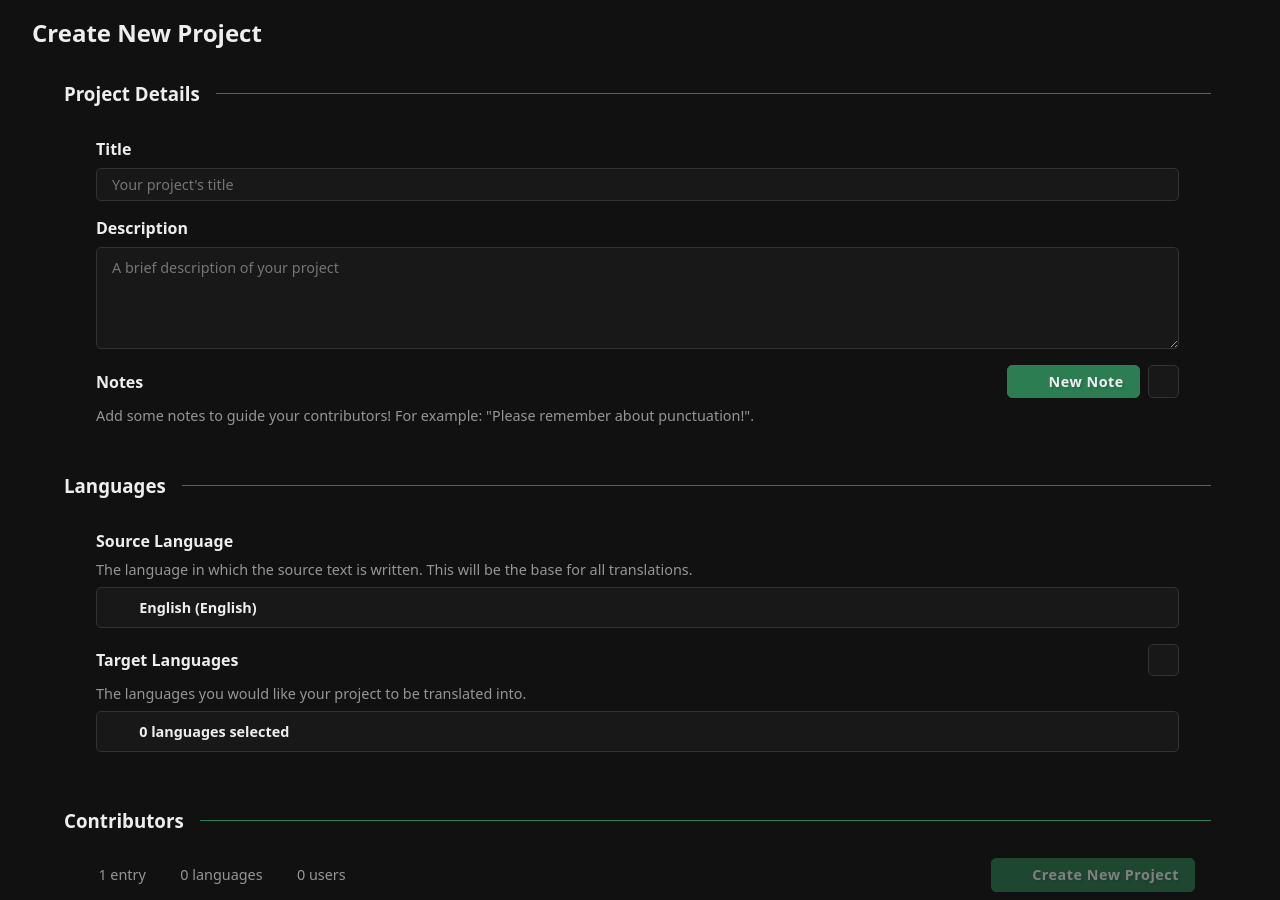
Scenario: ProjectCreate › opens and closes notes tab
Click the button with class "toggle-notes": (1163, 382) [1148, 365, 1179, 398]
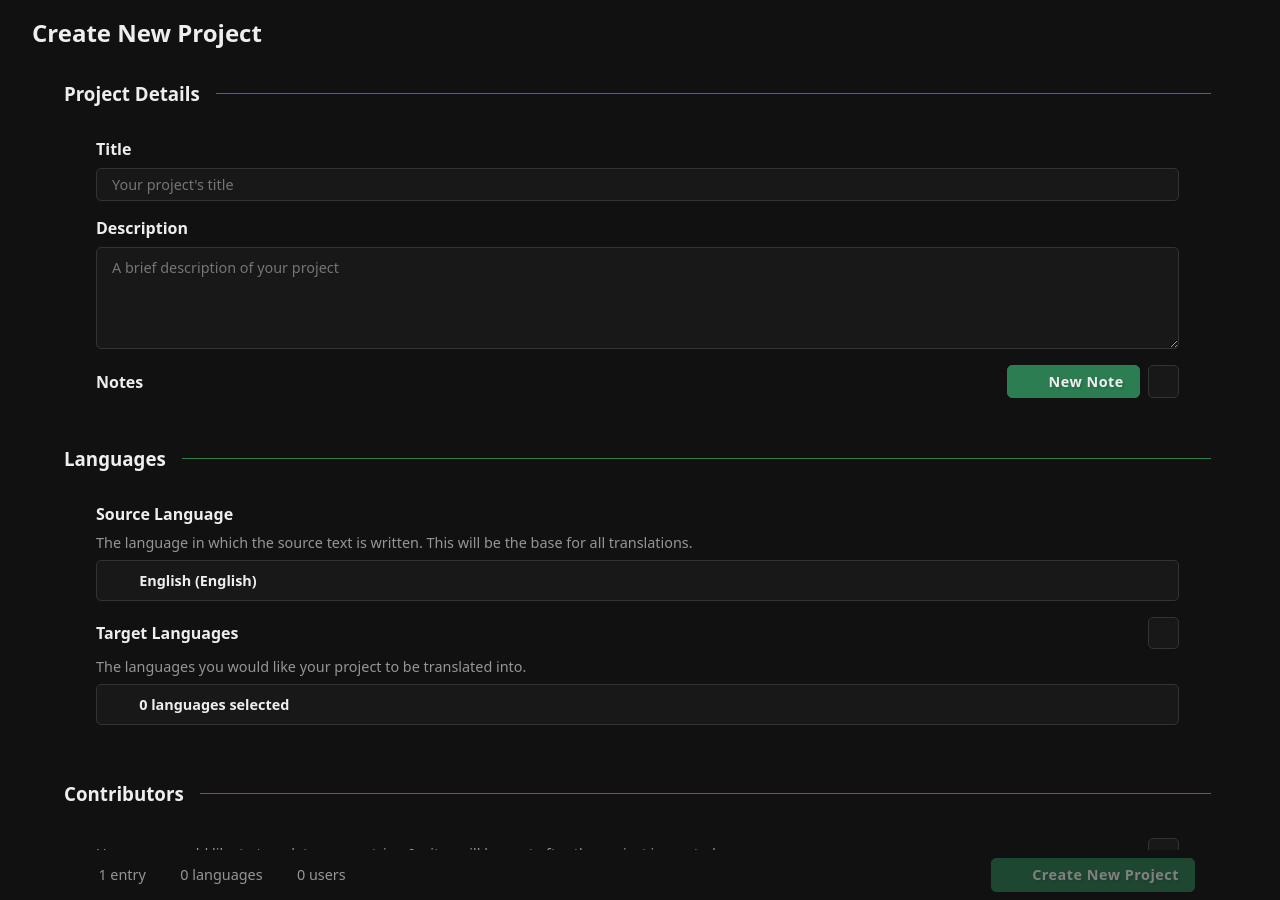
Click the button with class "toggle-notes": (1163, 382) [1148, 365, 1179, 398]
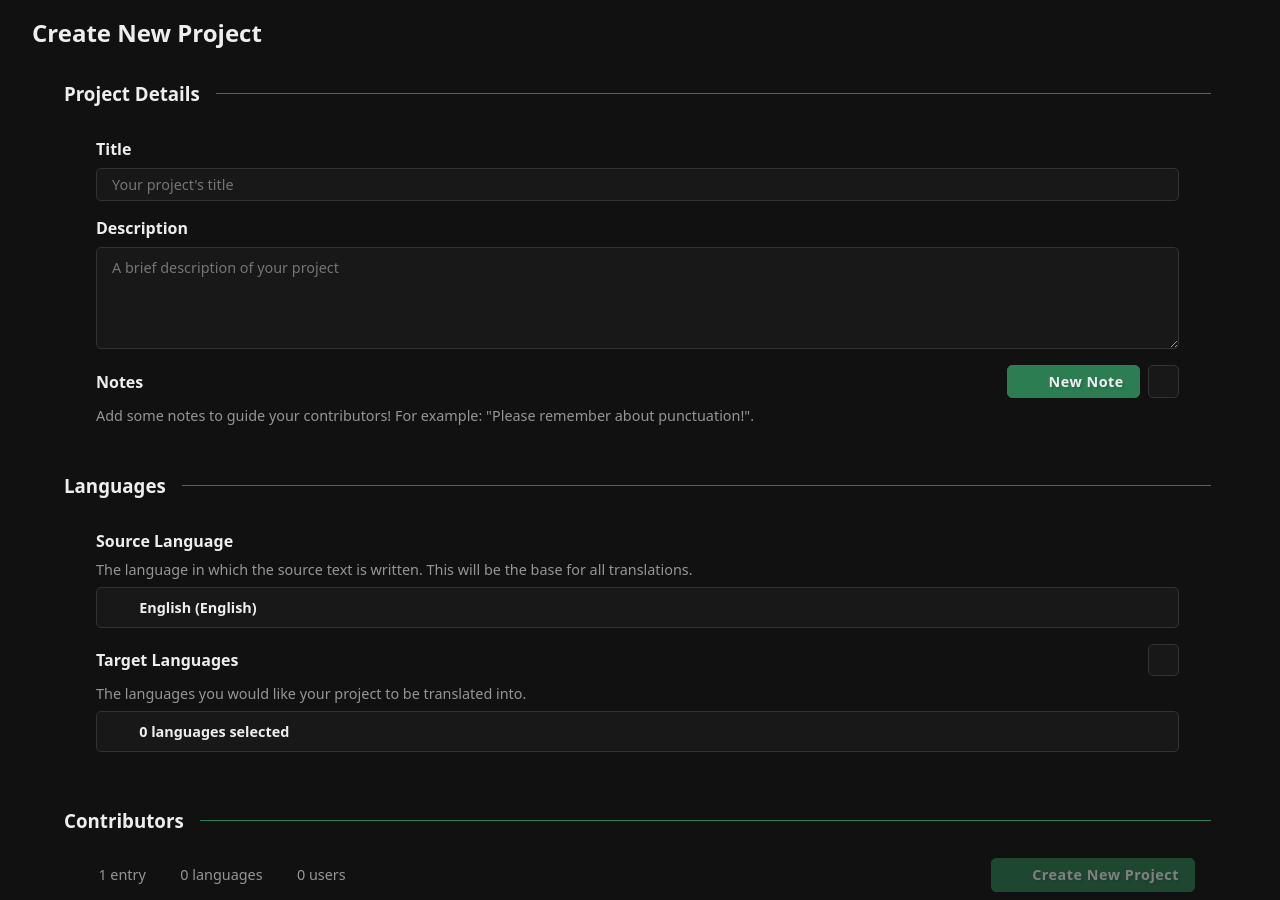
Expected: the element with class "notes" is shown, [96, 406, 754, 425]
